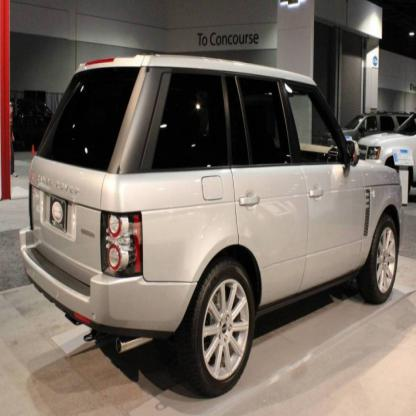Vehicle: (21, 53, 402, 399)
